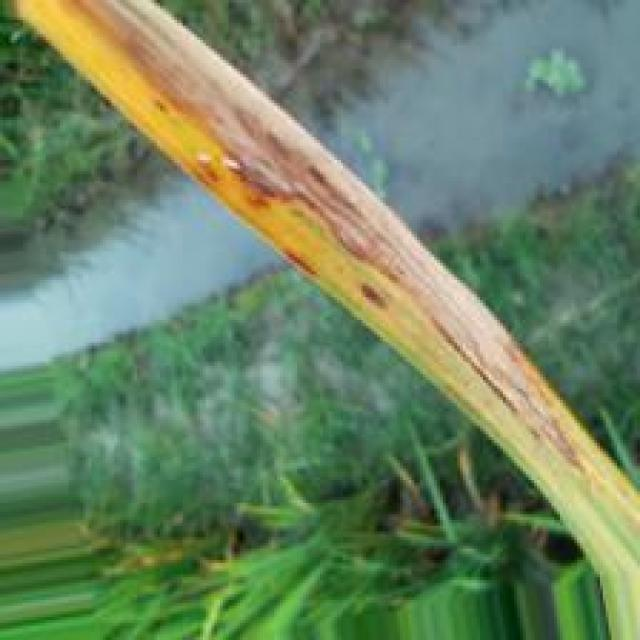Leaf_Scald: (59, 0, 579, 470)
